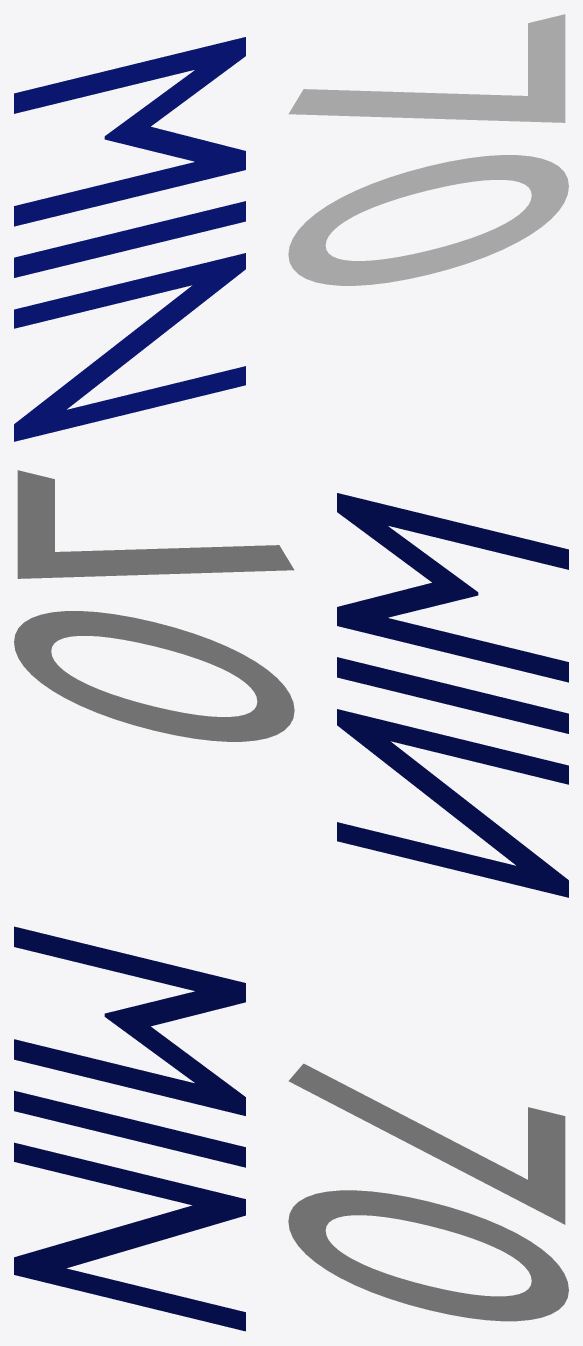
File: 地面标识-限速下限70.gltf
3 views of the same model, one above another, from view 1: azimuth 30°, elevation 25°; view 2: azimuth 150°, elevation 25°; view 3: azimuth 330°, elevation 25° (orthographic).
Parts seen in each view (by area): view 1: 文本.002, 文本; view 2: 文本.002, 文本; view 3: 文本.002, 文本.
Boxes of the visible parts, <box> form: 文本.002: <box>14,37,245,441</box>; 文本: <box>288,14,568,285</box>; 文本.002: <box>337,493,568,897</box>; 文本: <box>14,470,294,741</box>; 文本.002: <box>14,926,245,1331</box>; 文本: <box>288,1063,568,1321</box>.
Size of the model in its own units: 3.4 by 2.04 by 8.08e-07.
